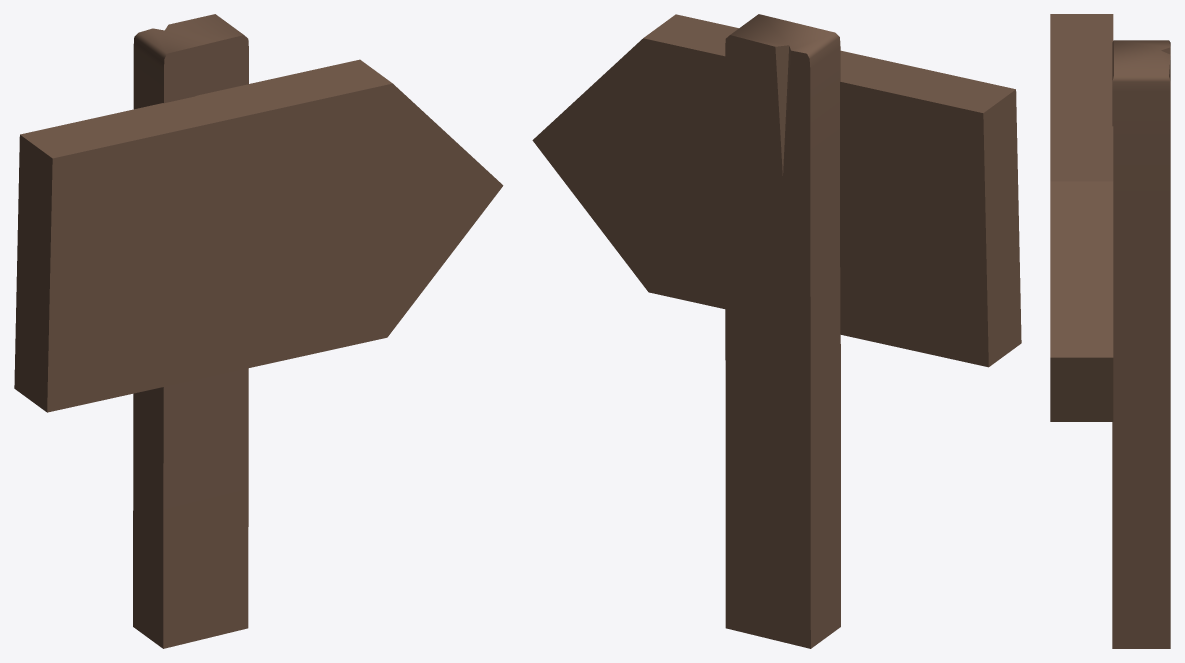
The model's file is sign_direction_small.fbx.
3 views of the same model, side by side, from view 1: azimuth 30°, elevation 25°; view 2: azimuth 150°, elevation 25°; view 3: azimuth 270°, elevation 25° (orthographic). The views are drawn at different scales.
Visible parts, largest first — view 1: sign_directional_small; view 2: sign_directional_small; view 3: sign_directional_small.
Part boxes in pixels (bbox=[...]): sign_directional_small: bbox=[14, 14, 503, 648]; sign_directional_small: bbox=[532, 14, 1021, 648]; sign_directional_small: bbox=[1050, 14, 1170, 648].
Size of the model in its own units: 80.46 by 100 by 19.06.
